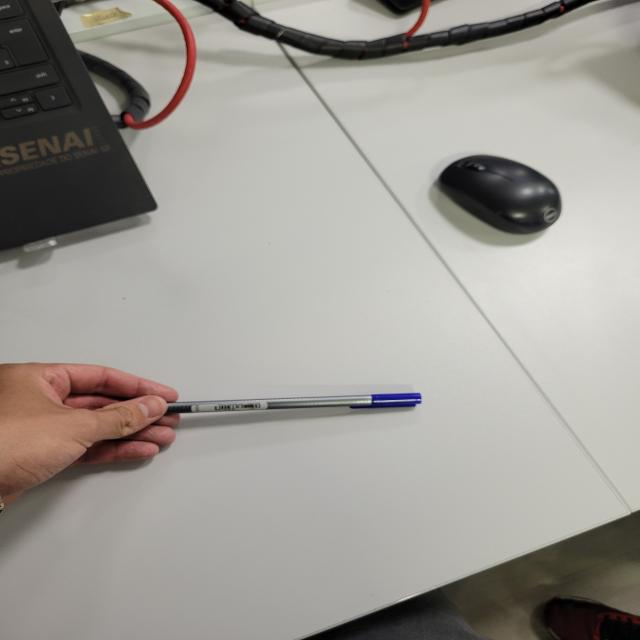caneta: (166, 376, 433, 426)
